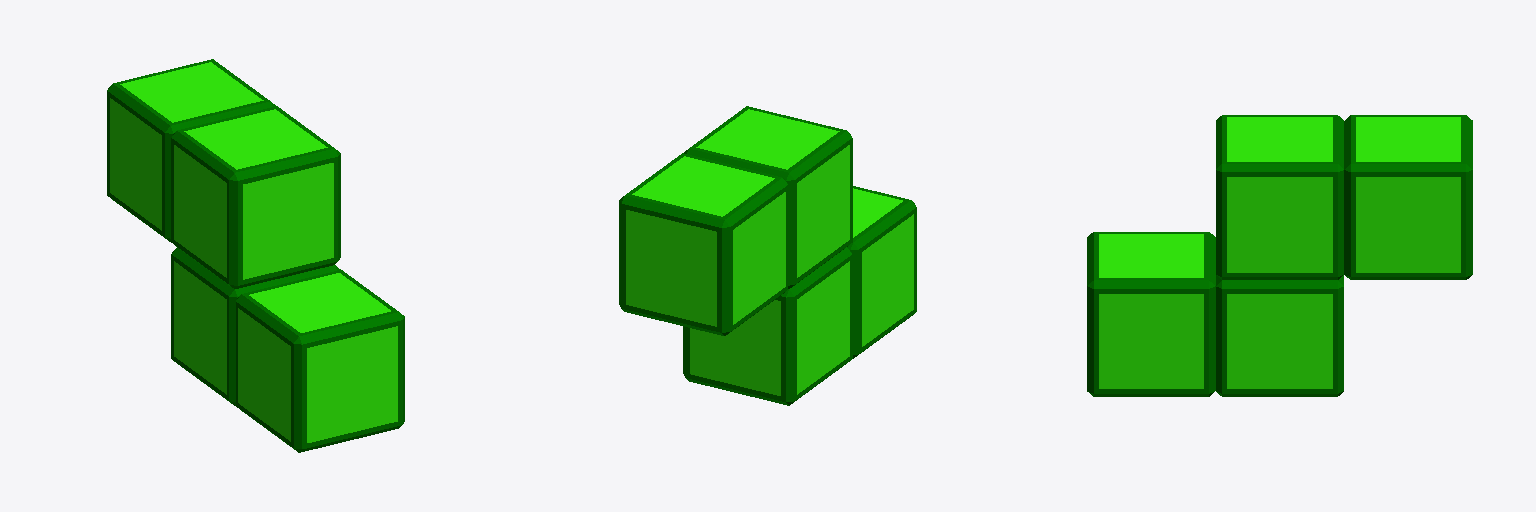
Rendered from fig5_color.obj.
The picture shows the model from 3 angles: view 1: azimuth 30°, elevation 25°; view 2: azimuth 150°, elevation 25°; view 3: azimuth 270°, elevation 25°; orthographic projection.
Visible parts, largest first — view 1: Cube.002, Cube, Cube.003, Cube.001; view 2: Cube.003, Cube.001, Cube.002, Cube; view 3: Cube, Cube.003, Cube.002, Cube.001.
Part boxes in pixels (x1,y1,x2,y2): Cube.002: (171,106,340,288); Cube: (236,270,404,452); Cube.003: (107,59,275,241); Cube.001: (171,247,340,405); Cube.003: (619,153,787,335); Cube.001: (683,247,852,405); Cube.002: (684,106,852,288); Cube: (847,186,916,358); Cube: (1087,232,1215,396); Cube.003: (1344,115,1472,279); Cube.002: (1216,115,1343,279); Cube.001: (1216,275,1343,396).
Size of the model in its own units: 2 by 4 by 6.